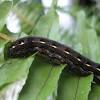Armyworm: (6, 34, 97, 80)
